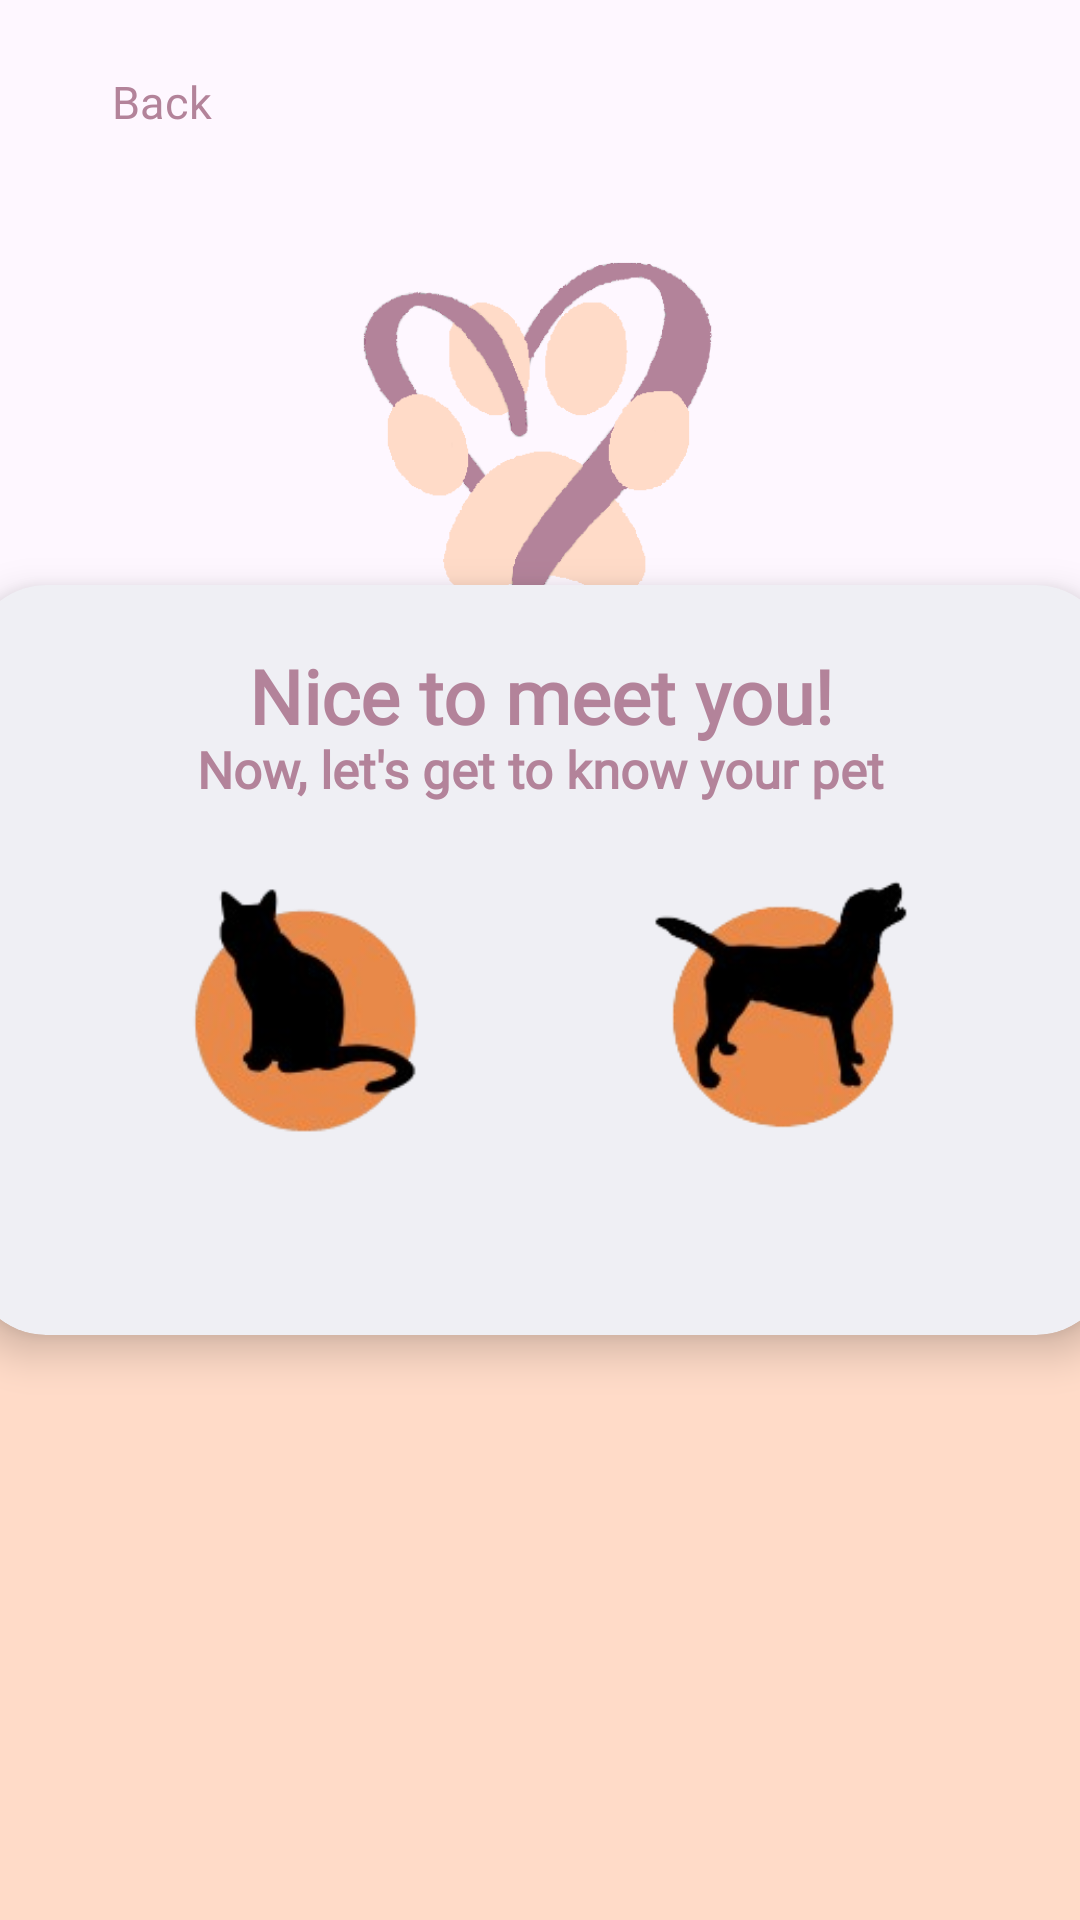

Icon click points for this 1080×1920 phone screenshot, format (x,y):
cat: (306,1010)
dog: (781,1005)
